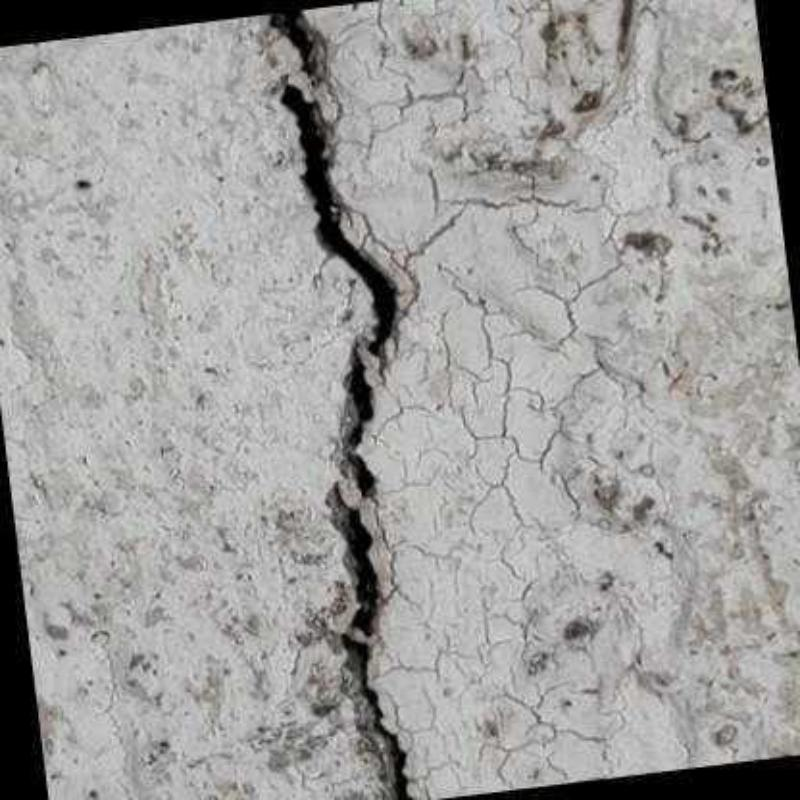pothole: (277, 73, 397, 382), (343, 631, 410, 800), (319, 483, 374, 637), (333, 339, 370, 495), (263, 9, 315, 82)
